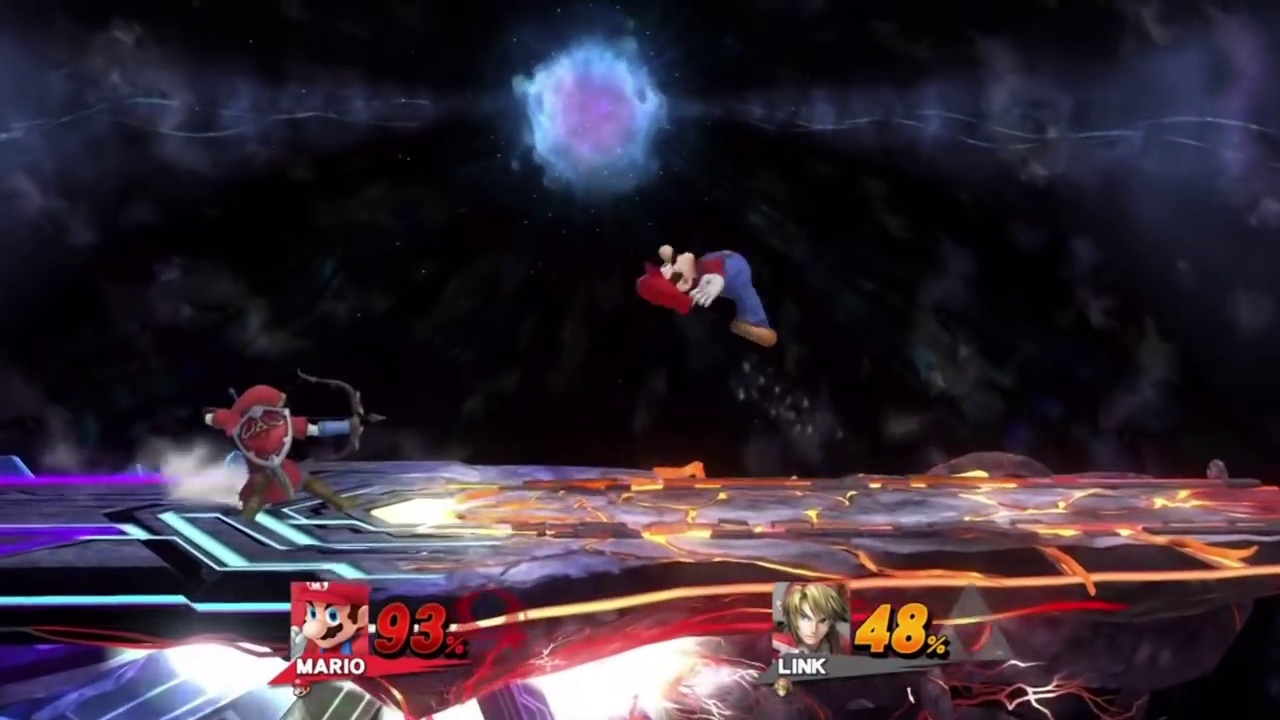Mario: (631, 245, 776, 353)
